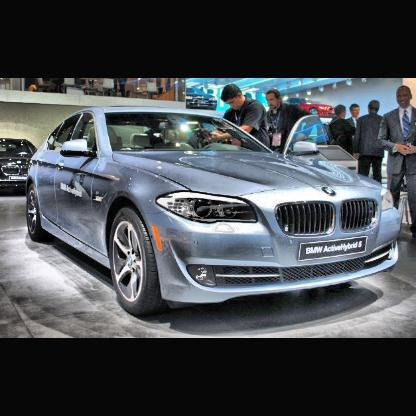BMW ActiveHybrid 5 Sedan 2012: (26, 107, 403, 316)
